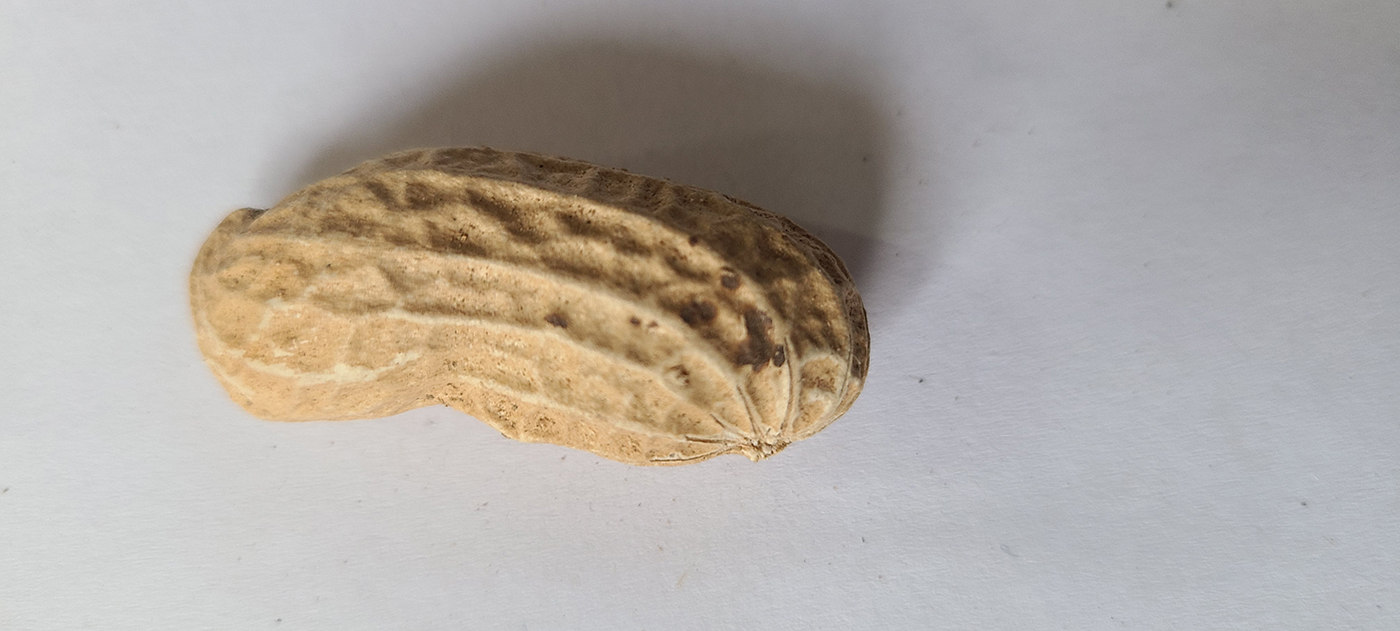h: (184, 136, 872, 467)
